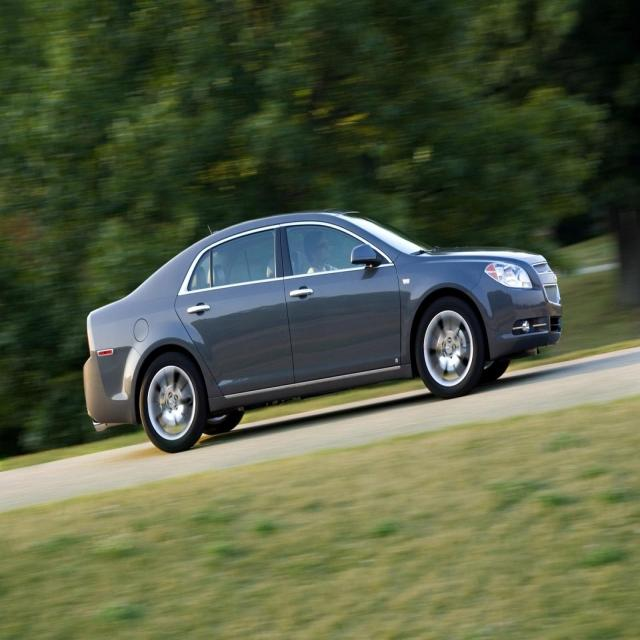Car: (74, 194, 569, 461)
